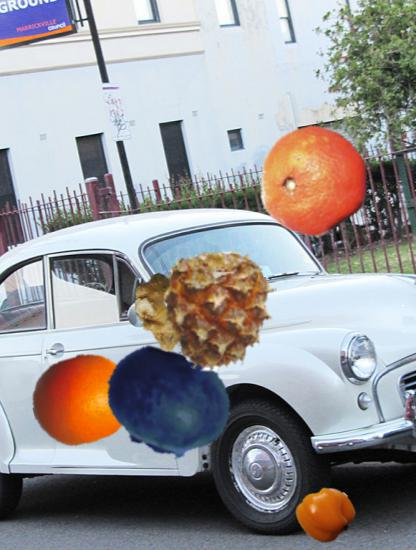Clementine: (256, 124, 373, 241)
Ginger: (133, 270, 213, 350)
Grapefruit: (32, 348, 134, 450)
Huckleberry: (104, 339, 232, 467)
Mulberry: (177, 306, 245, 374)
Pepper: (298, 486, 354, 542)
Pineapple: (157, 250, 280, 373)
